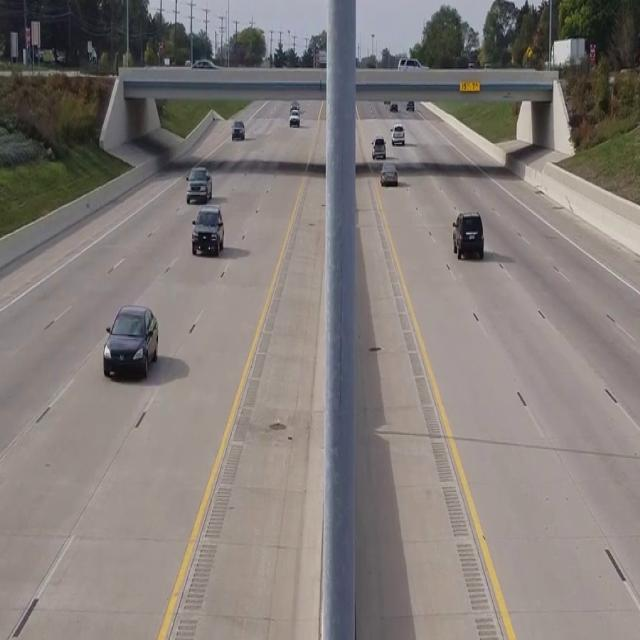car: (102, 305, 158, 379), (191, 206, 224, 256), (452, 212, 484, 260), (186, 166, 211, 203), (380, 163, 398, 186), (372, 136, 385, 160), (390, 123, 404, 144), (231, 120, 245, 140), (289, 102, 300, 126)
